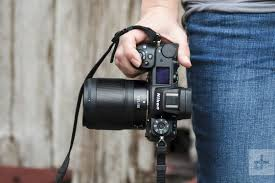camera: (82, 44, 191, 139)
